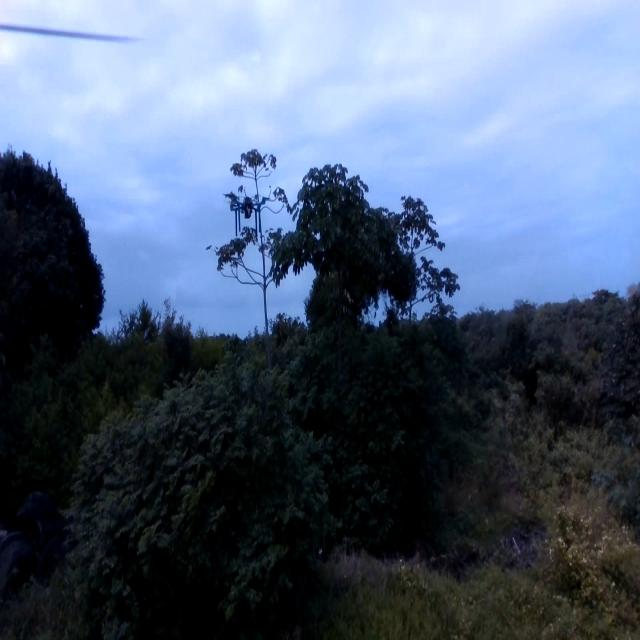-uav-: (225, 182, 269, 234)
